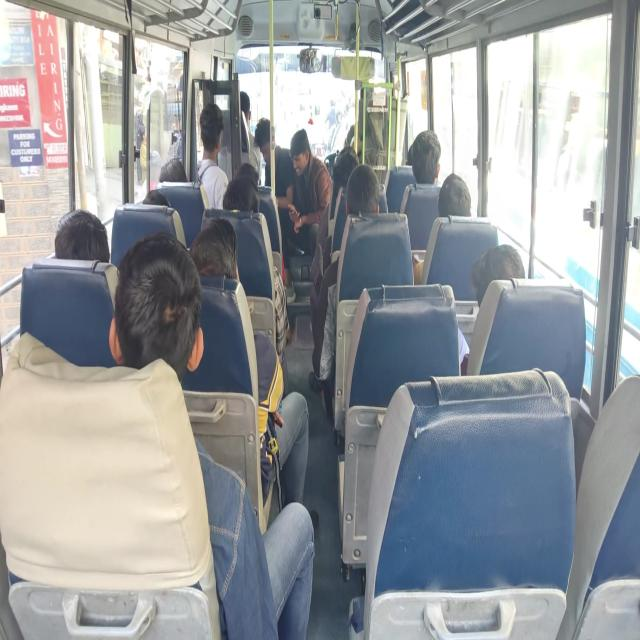person: (101, 224, 208, 378), (55, 202, 111, 273), (192, 212, 240, 291), (475, 253, 535, 300), (407, 127, 447, 191), (198, 93, 228, 174), (346, 171, 390, 224), (219, 171, 261, 226), (435, 171, 477, 224), (154, 142, 191, 188), (230, 154, 263, 194), (254, 118, 278, 169), (332, 149, 361, 187), (139, 181, 169, 215), (293, 134, 311, 183), (239, 84, 255, 133), (359, 78, 377, 118), (404, 131, 415, 170)
